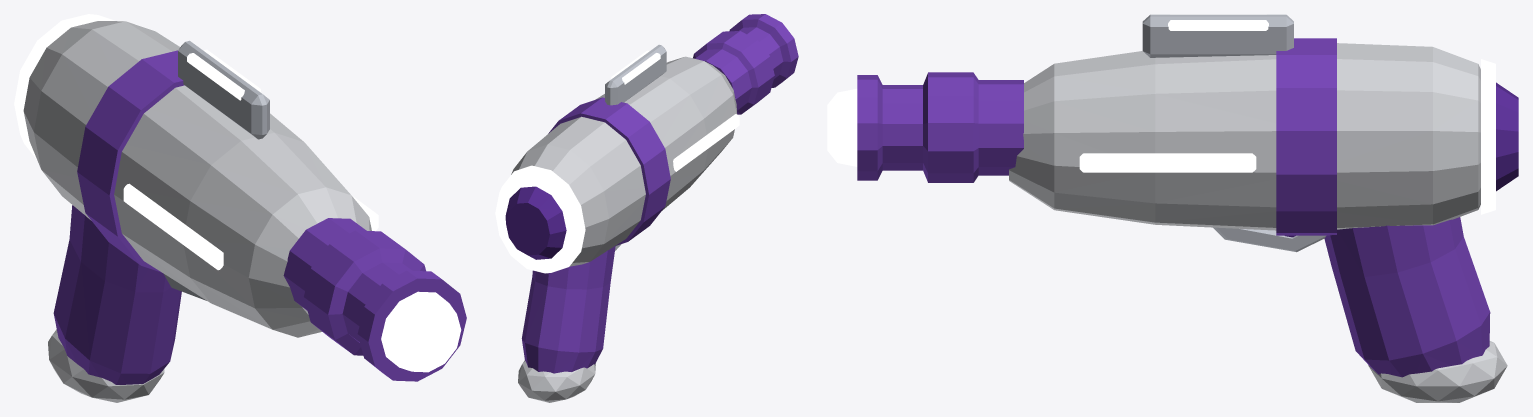
File: stun-gun.glb
3 renders of one model, left to right at view 1: azimuth 30°, elevation 25°; view 2: azimuth 150°, elevation 25°; view 3: azimuth 270°, elevation 25°, orthographic. The views are drawn at different scales.
Parts seen in each view (by area): view 1: StunGun; view 2: StunGun; view 3: StunGun.
Boxes of the visible parts, x1=… form: StunGun: x1=14, y1=14, x2=466, y2=402; StunGun: x1=495, y1=14, x2=798, y2=402; StunGun: x1=827, y1=14, x2=1518, y2=402.
Size of the model in its own units: 0.071 by 0.1674 by 0.274.
